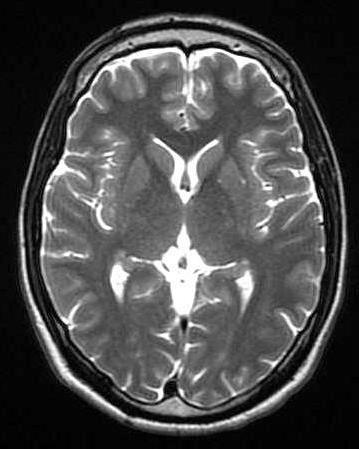Normal_Brain: (1, 1, 359, 449)
